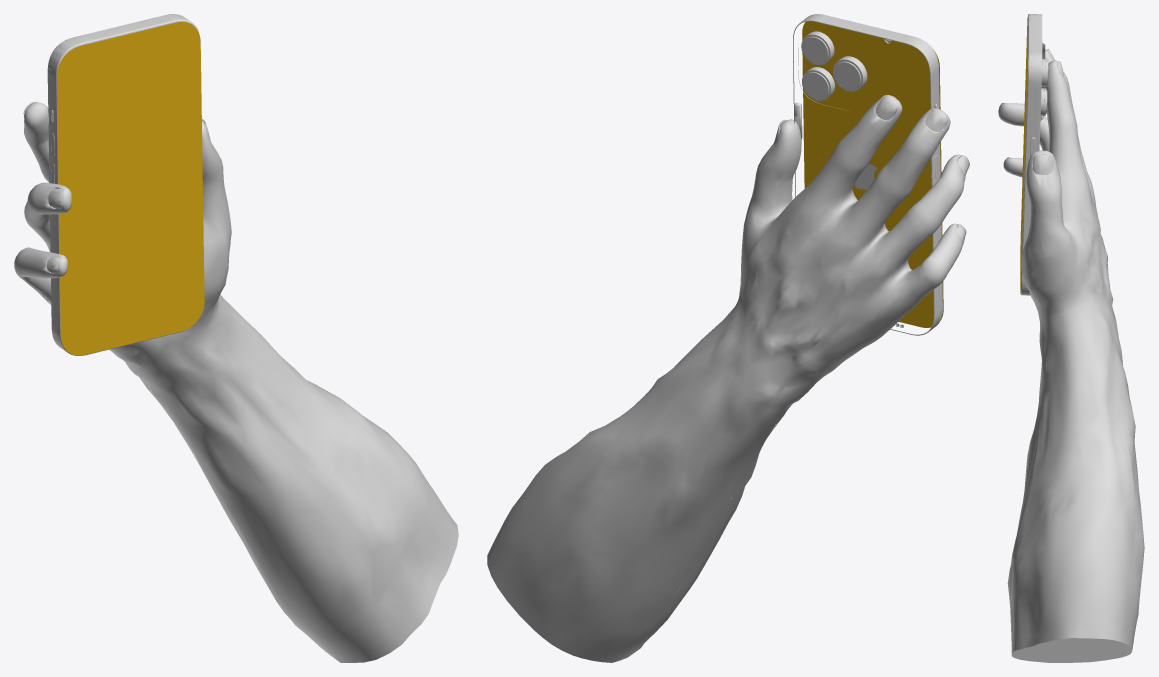
File: hand-model.glb
3 renders of one model, left to right at view 1: azimuth 30°, elevation 25°; view 2: azimuth 150°, elevation 25°; view 3: azimuth 270°, elevation 25°, orthographic. The views are drawn at different scales.
Visible parts, largest first — view 1: Hand, phoneScreen, Phone; view 2: Hand, phoneScreen, Phone; view 3: Hand, Phone, phoneScreen.
Part boxes in pixels (left/top/right/bottom): Hand: left=14, top=101, right=458, bottom=662; phoneScreen: left=57, top=22, right=204, bottom=355; Phone: left=47, top=14, right=199, bottom=355; Hand: left=487, top=95, right=969, bottom=662; phoneScreen: left=802, top=21, right=943, bottom=327; Phone: left=793, top=14, right=942, bottom=335; Hand: left=998, top=49, right=1144, bottom=662; Phone: left=1020, top=14, right=1048, bottom=295; phoneScreen: left=1020, top=17, right=1027, bottom=293.
Bounding box in the file's own units: 0.787 × 1.16 × 0.2821.
